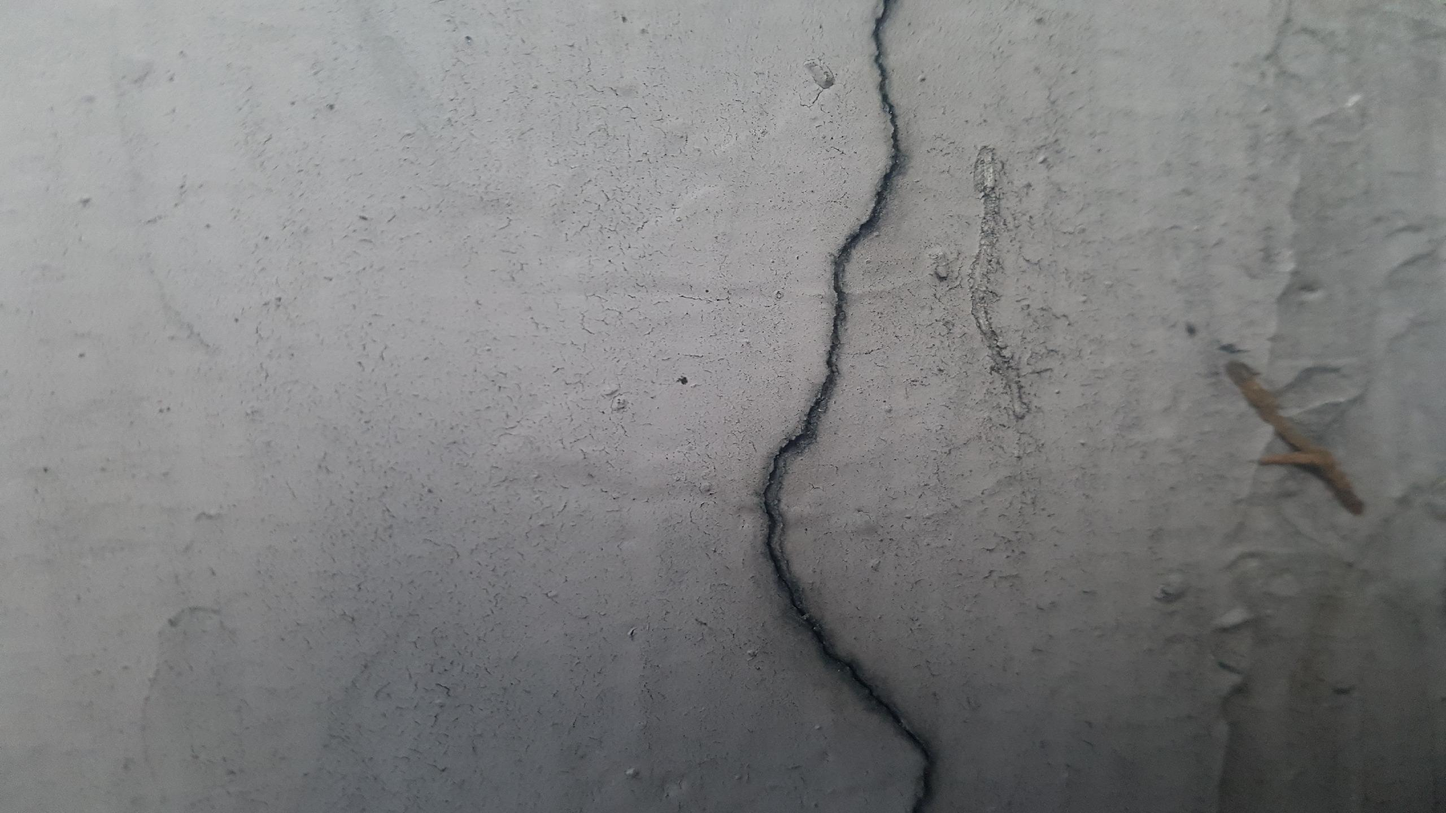crack: (762, 0, 944, 812)
